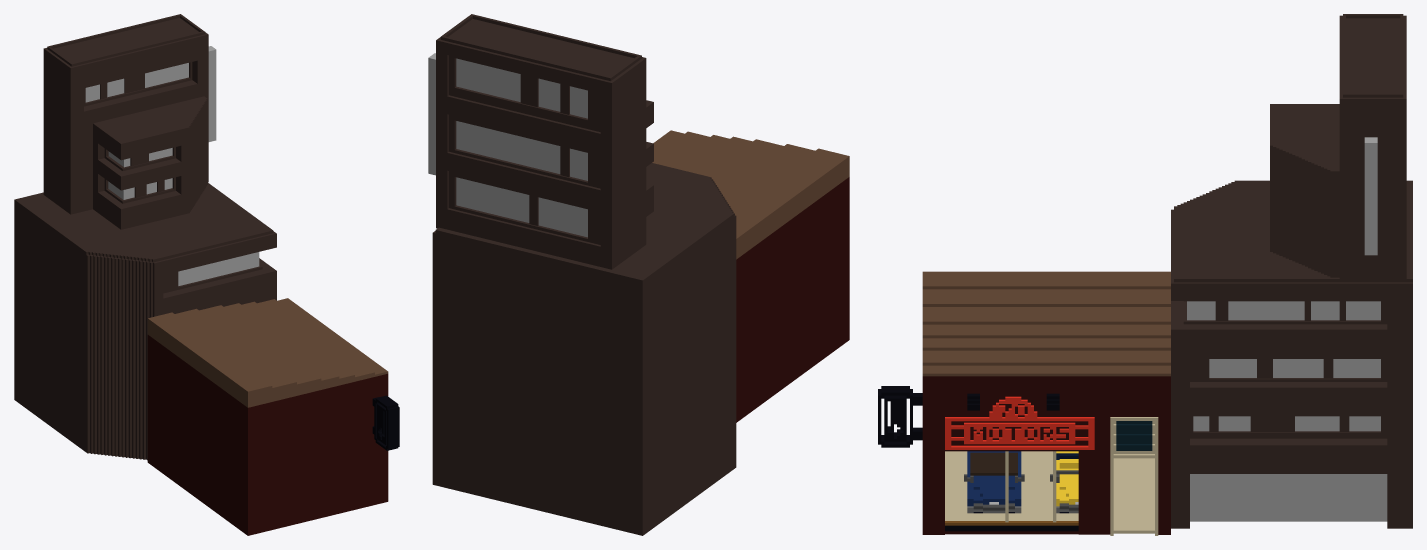
The model's file is SideBuildings1.fbx.
3 renders of one model, left to right at view 1: azimuth 30°, elevation 25°; view 2: azimuth 150°, elevation 25°; view 3: azimuth 270°, elevation 25°, orthographic. The views are drawn at different scales.
Visible parts, largest first — view 1: SideBuilding1_001; view 2: SideBuilding1_001; view 3: SideBuilding1_001.
Part boxes in pixels (x1,y1,x2,y2): SideBuilding1_001: (14,14,399,535); SideBuilding1_001: (428,14,849,535); SideBuilding1_001: (878,14,1412,535).
Size of the model in its own units: 8.5 by 14.99 by 16.8.
